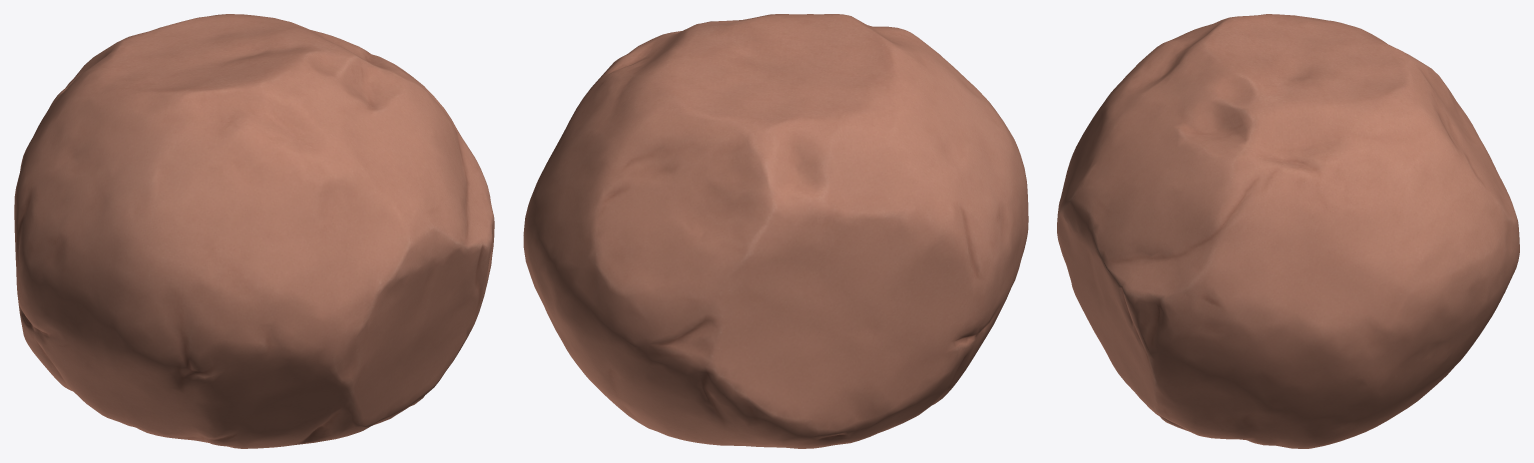
File: kamen-gladkiy.glb
3 renders of one model, left to right at view 1: azimuth 30°, elevation 25°; view 2: azimuth 150°, elevation 25°; view 3: azimuth 270°, elevation 25°, orthographic. The views are drawn at different scales.
Visible parts, largest first — view 1: geometry_0; view 2: geometry_0; view 3: geometry_0.
Part boxes in pixels (x1=…): geometry_0: x1=14, y1=14, x2=494, y2=448; geometry_0: x1=523, y1=14, x2=1028, y2=448; geometry_0: x1=1057, y1=14, x2=1519, y2=448.
Bounding box in the file's own units: 0.9995 × 0.8017 × 1.
Materials: 1 (1 with a texture image).
